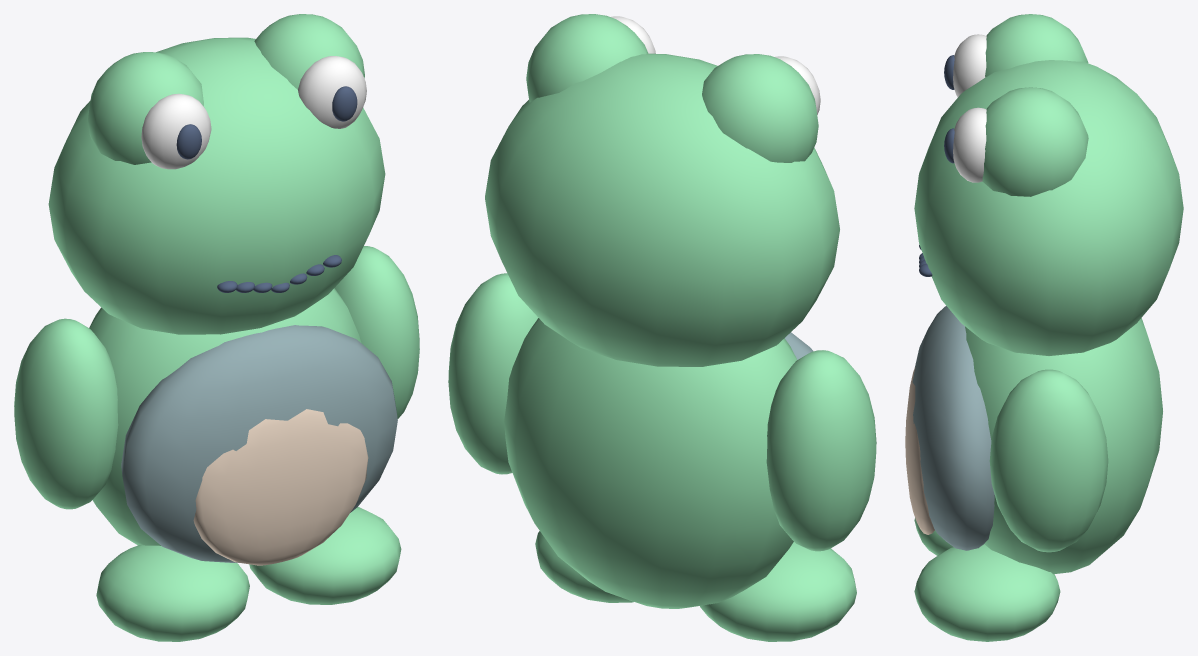
File: hero-frog-0-1.glb
The picture shows the model from 3 angles, left to right: view 1: azimuth 30°, elevation 25°; view 2: azimuth 150°, elevation 25°; view 3: azimuth 270°, elevation 25°; orthographic projection. The views are drawn at different scales.
Parts seen in each view (by area): view 1: head, jacket, hand (×2), foot (×2), belly, eye_bulb (×2), body, eye_white (×2), eye_pupil (×2); view 2: head, body, hand (×2), eye_bulb (×2), foot (×2); view 3: head, body, hand, jacket, eye_bulb (×2), foot (×2), eye_white (×2), belly.
Part boxes in pixels (bbox=[...]): head: bbox=[48, 37, 385, 334]; jacket: bbox=[121, 325, 397, 562]; hand (×2): bbox=[14, 246, 419, 509]; foot (×2): bbox=[96, 506, 401, 641]; belly: bbox=[193, 409, 368, 565]; eye_bulb (×2): bbox=[88, 14, 364, 164]; body: bbox=[89, 288, 361, 545]; eye_white (×2): bbox=[141, 56, 366, 169]; eye_pupil (×2): bbox=[176, 86, 357, 159]; head: bbox=[485, 53, 839, 366]; body: bbox=[504, 318, 797, 608]; hand (×2): bbox=[448, 273, 876, 551]; eye_bulb (×2): bbox=[526, 14, 818, 162]; foot (×2): bbox=[535, 531, 856, 641]; head: bbox=[914, 60, 1183, 355]; body: bbox=[965, 318, 1162, 574]; hand: bbox=[989, 369, 1108, 552]; jacket: bbox=[912, 306, 994, 550]; eye_bulb (×2): bbox=[982, 14, 1088, 196]; foot (×2): bbox=[914, 518, 1060, 641]; eye_white (×2): bbox=[953, 34, 986, 182]; belly: bbox=[905, 367, 934, 534].
Bounding box in the file's own units: 1.9 × 2.61 × 1.22.
